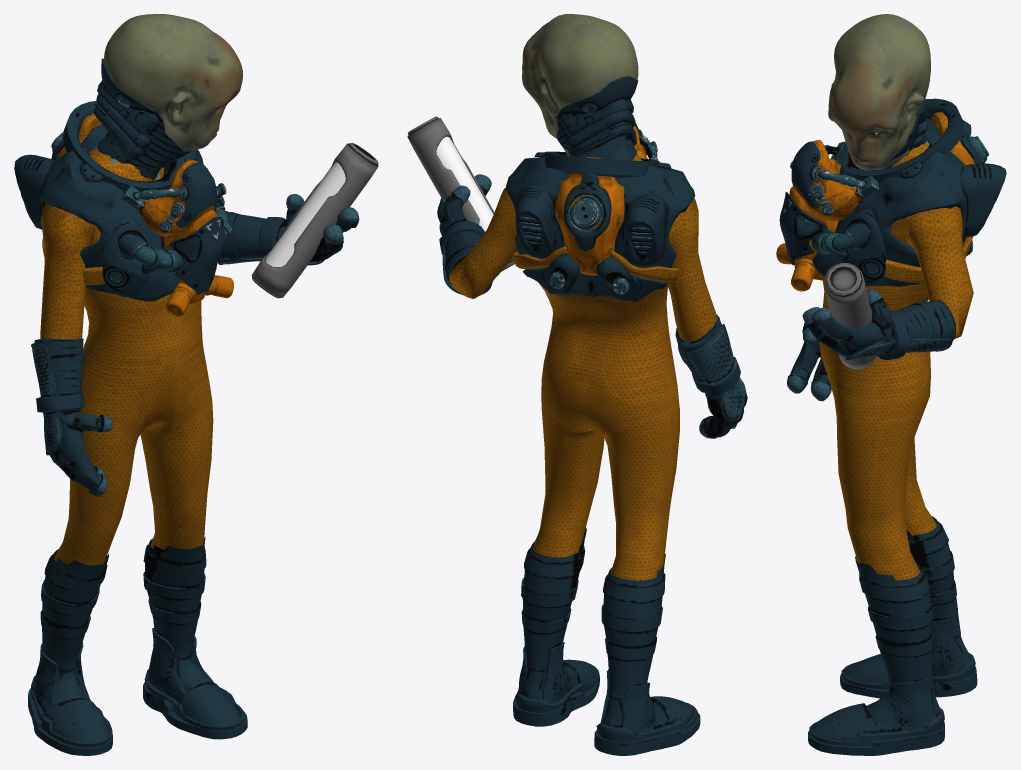
Rendered from alien.glb.
The picture shows the model from 3 angles, left to right: view 1: azimuth 30°, elevation 25°; view 2: azimuth 150°, elevation 25°; view 3: azimuth 270°, elevation 25°; orthographic projection.
Visible parts, largest first — view 1: Supreme, OU_Hard_Surface_Kitbash_Part_04_OU_Hard_Surface_43_lambert3_, OU_Hard_Surface_Kitbash_Part_04_OU_Hard_Surface_43; view 2: Supreme, OU_Hard_Surface_Kitbash_Part_04_OU_Hard_Surface_43_lambert3_, OU_Hard_Surface_Kitbash_Part_04_OU_Hard_Surface_43; view 3: Supreme, OU_Hard_Surface_Kitbash_Part_04_OU_Hard_Surface_43_lambert3_.
Boxes of the visible parts, left/top/right/bottom form: Supreme: left=14, top=14, right=359, bottom=755; OU_Hard_Surface_Kitbash_Part_04_OU_Hard_Surface_43_lambert3_: left=251, top=142, right=378, bottom=298; OU_Hard_Surface_Kitbash_Part_04_OU_Hard_Surface_43: left=265, top=162, right=345, bottom=266; Supreme: left=437, top=14, right=747, bottom=755; OU_Hard_Surface_Kitbash_Part_04_OU_Hard_Surface_43_lambert3_: left=407, top=116, right=514, bottom=271; OU_Hard_Surface_Kitbash_Part_04_OU_Hard_Surface_43: left=436, top=136, right=493, bottom=231; Supreme: left=776, top=14, right=1006, bottom=755; OU_Hard_Surface_Kitbash_Part_04_OU_Hard_Surface_43_lambert3_: left=824, top=263, right=876, bottom=369.
Size of the model in its own units: 7.29 by 14.64 by 4.36.
Materials: 6 (5 with a texture image).
